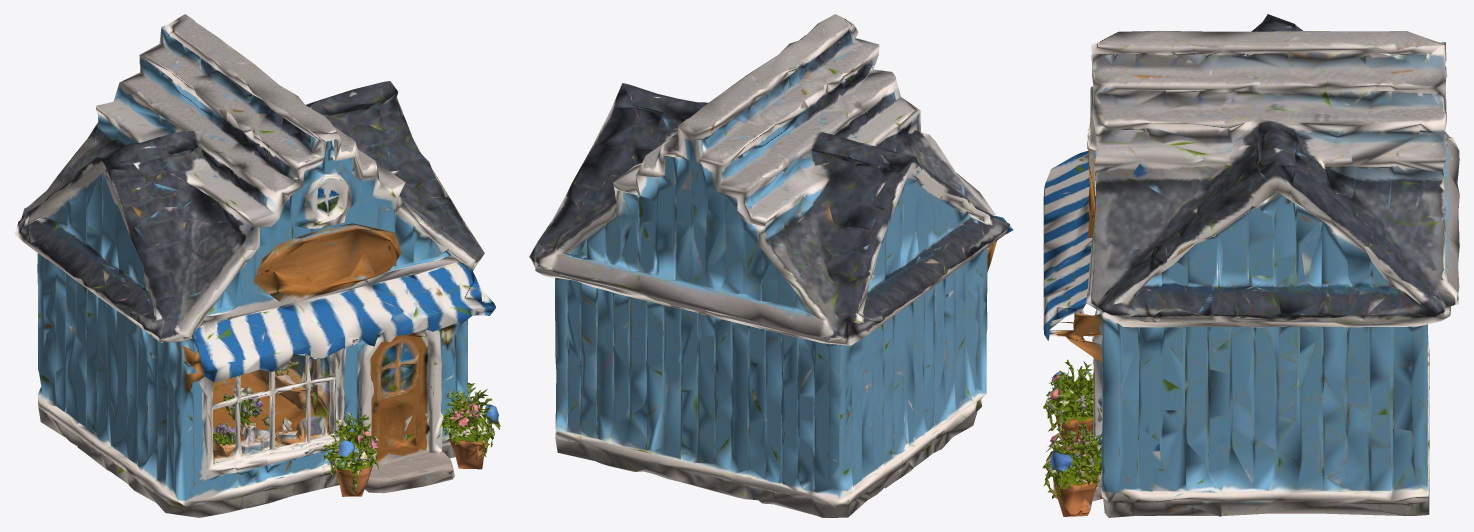
Rendered from dukkan2.glb.
3 renders of one model, left to right at view 1: azimuth 30°, elevation 25°; view 2: azimuth 150°, elevation 25°; view 3: azimuth 270°, elevation 25°, orthographic. The views are drawn at different scales.
Size of the model in its own units: 1.83 by 1.9 by 1.78.
1 material, 1 textured.
